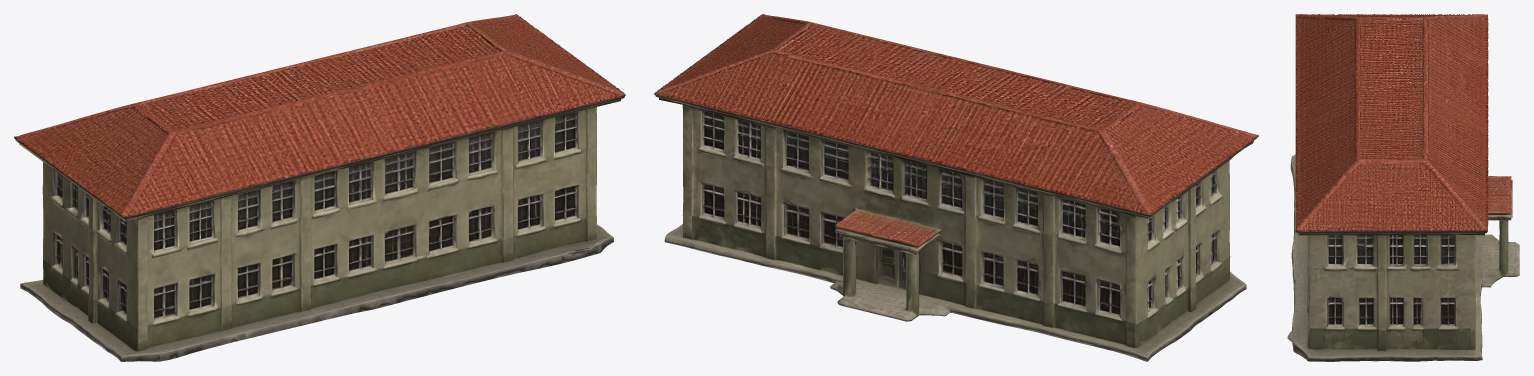
Rendered from quartel-hq.glb.
3 views of the same model, side by side, from view 1: azimuth 30°, elevation 25°; view 2: azimuth 150°, elevation 25°; view 3: azimuth 270°, elevation 25° (orthographic). The views are drawn at different scales.
Visible parts, largest first — view 1: tripo_node_dc9fcc1c-9185-4c3a-bc53-205bb8f84fa0; view 2: tripo_node_dc9fcc1c-9185-4c3a-bc53-205bb8f84fa0; view 3: tripo_node_dc9fcc1c-9185-4c3a-bc53-205bb8f84fa0.
Boxes of the visible parts, x1,y1,x2,y2 form: tripo_node_dc9fcc1c-9185-4c3a-bc53-205bb8f84fa0: [14, 14, 625, 361]; tripo_node_dc9fcc1c-9185-4c3a-bc53-205bb8f84fa0: [654, 14, 1258, 361]; tripo_node_dc9fcc1c-9185-4c3a-bc53-205bb8f84fa0: [1287, 14, 1519, 361].
Size of the model in its own units: 22 by 8 by 10.
1 material, 1 textured.
